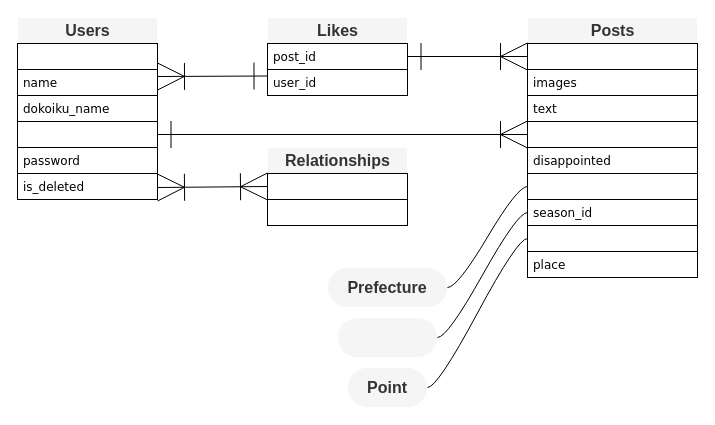
This 715x425 diagram has some shape labels left out. Each missing label, with the box of its shape:
email: (16, 120, 158, 148)
follower_id: (266, 172, 408, 200)
following_id: (266, 198, 408, 226)
image: (16, 42, 158, 70)
point_id: (526, 224, 698, 252)
prefecture_id: (526, 172, 698, 200)
recommend: (526, 120, 698, 148)
Season: (336, 316, 438, 358)
title: (526, 42, 698, 70)
